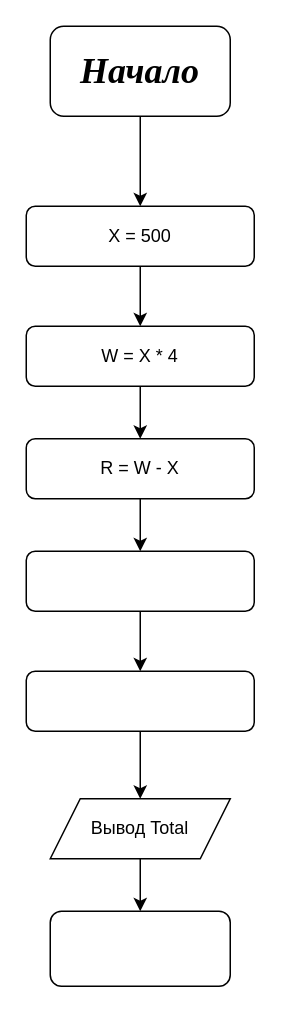
The diagram is 281 pixels wide and 1013 high, and some of its shapes have lost their labels. The centre of each missing label's shape, as x and y in pixels:
"S = R / 3" goes at point 139,580.
"Total = S * 52" goes at point 139,700.
"Конец" goes at point 139,948.
